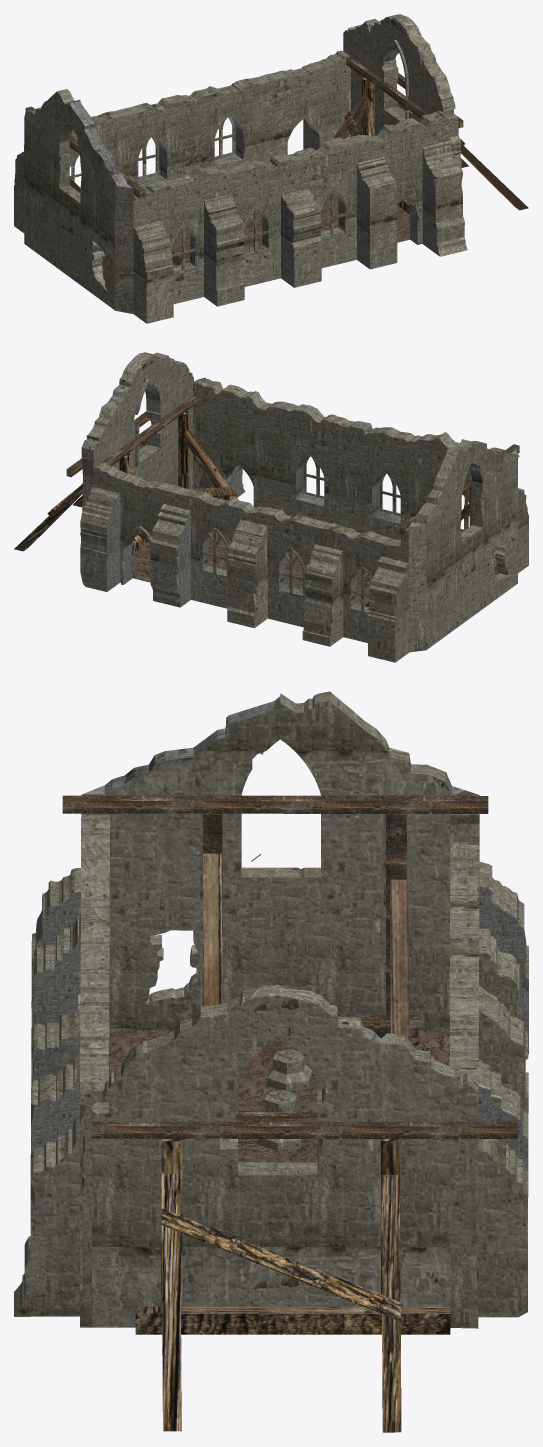
File: HouseofRedEarl_R-Lrotation.FBX
3 views of the same model, one above another, from view 1: azimuth 30°, elevation 25°; view 2: azimuth 150°, elevation 25°; view 3: azimuth 270°, elevation 25° (orthographic). The views are drawn at different scales.
Parts seen in each view (by area): view 1: RedEarlsCrt; view 2: RedEarlsCrt; view 3: RedEarlsCrt.
Boxes of the visible parts, x1,y1,x2,y2 form: RedEarlsCrt: [14, 14, 528, 323]; RedEarlsCrt: [14, 352, 528, 662]; RedEarlsCrt: [14, 691, 528, 1432].
Size of the model in its own units: 27.55 by 11.69 by 15.13.
6 materials, 6 textured.
